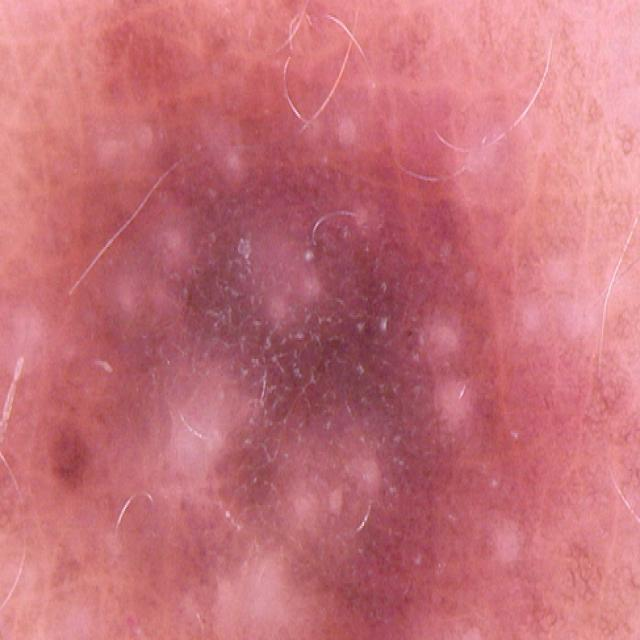Dermatofibroma: (51, 193, 405, 565), (466, 366, 640, 640)
